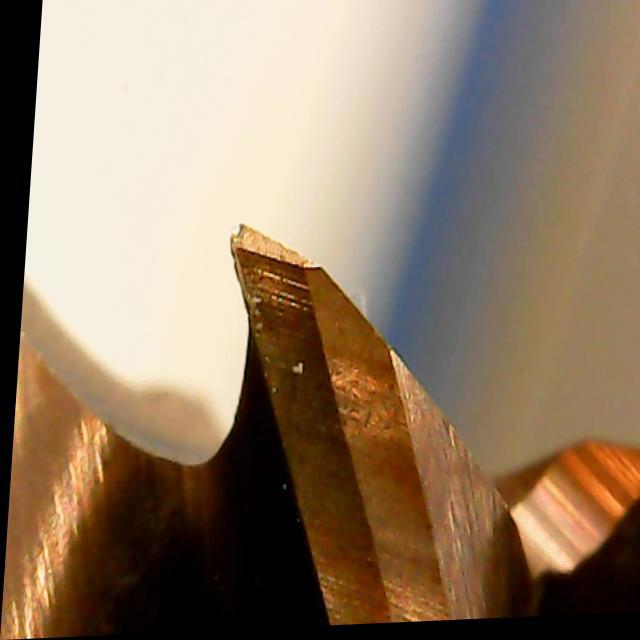Tool-wear-class-1: (214, 219, 379, 426)
